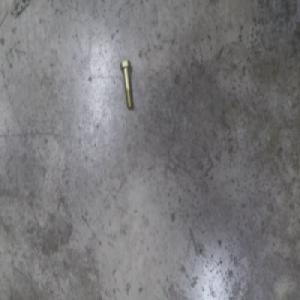Bolt: (121, 57, 134, 107)
